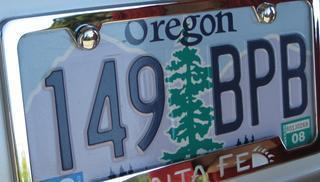placa de veiculo: (6, 12, 318, 168)
